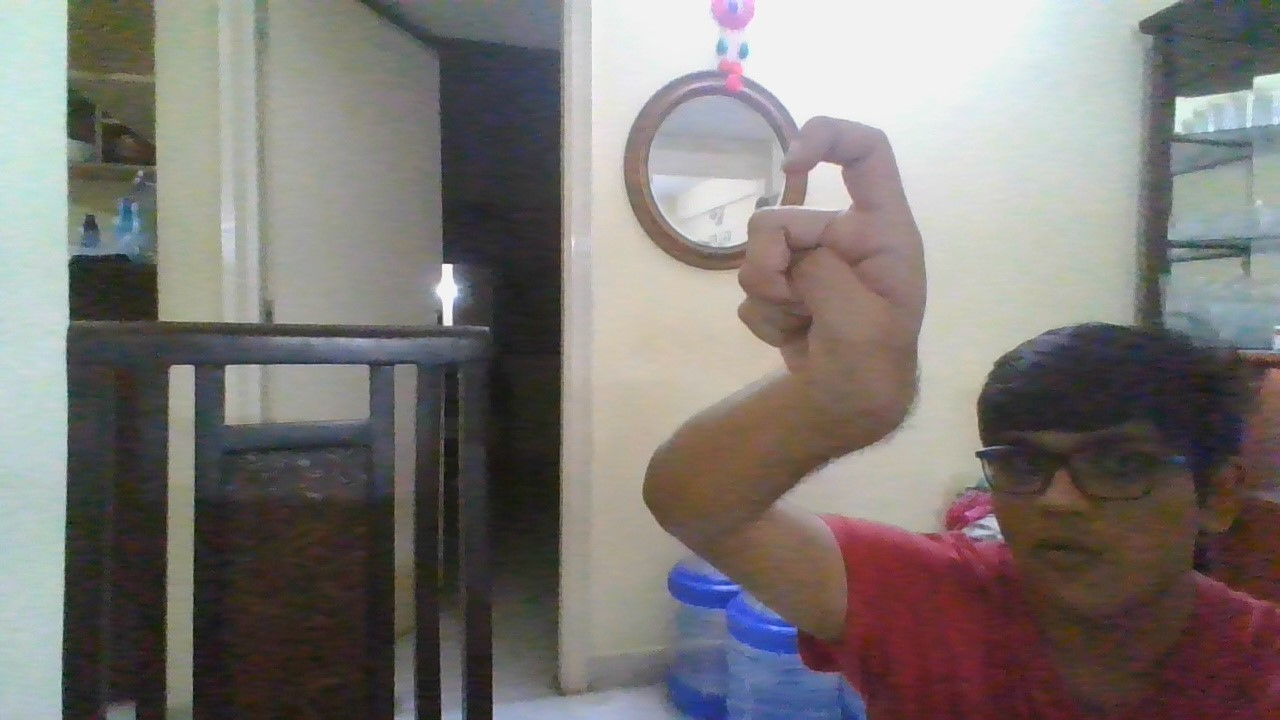x: (732, 104, 954, 385)
